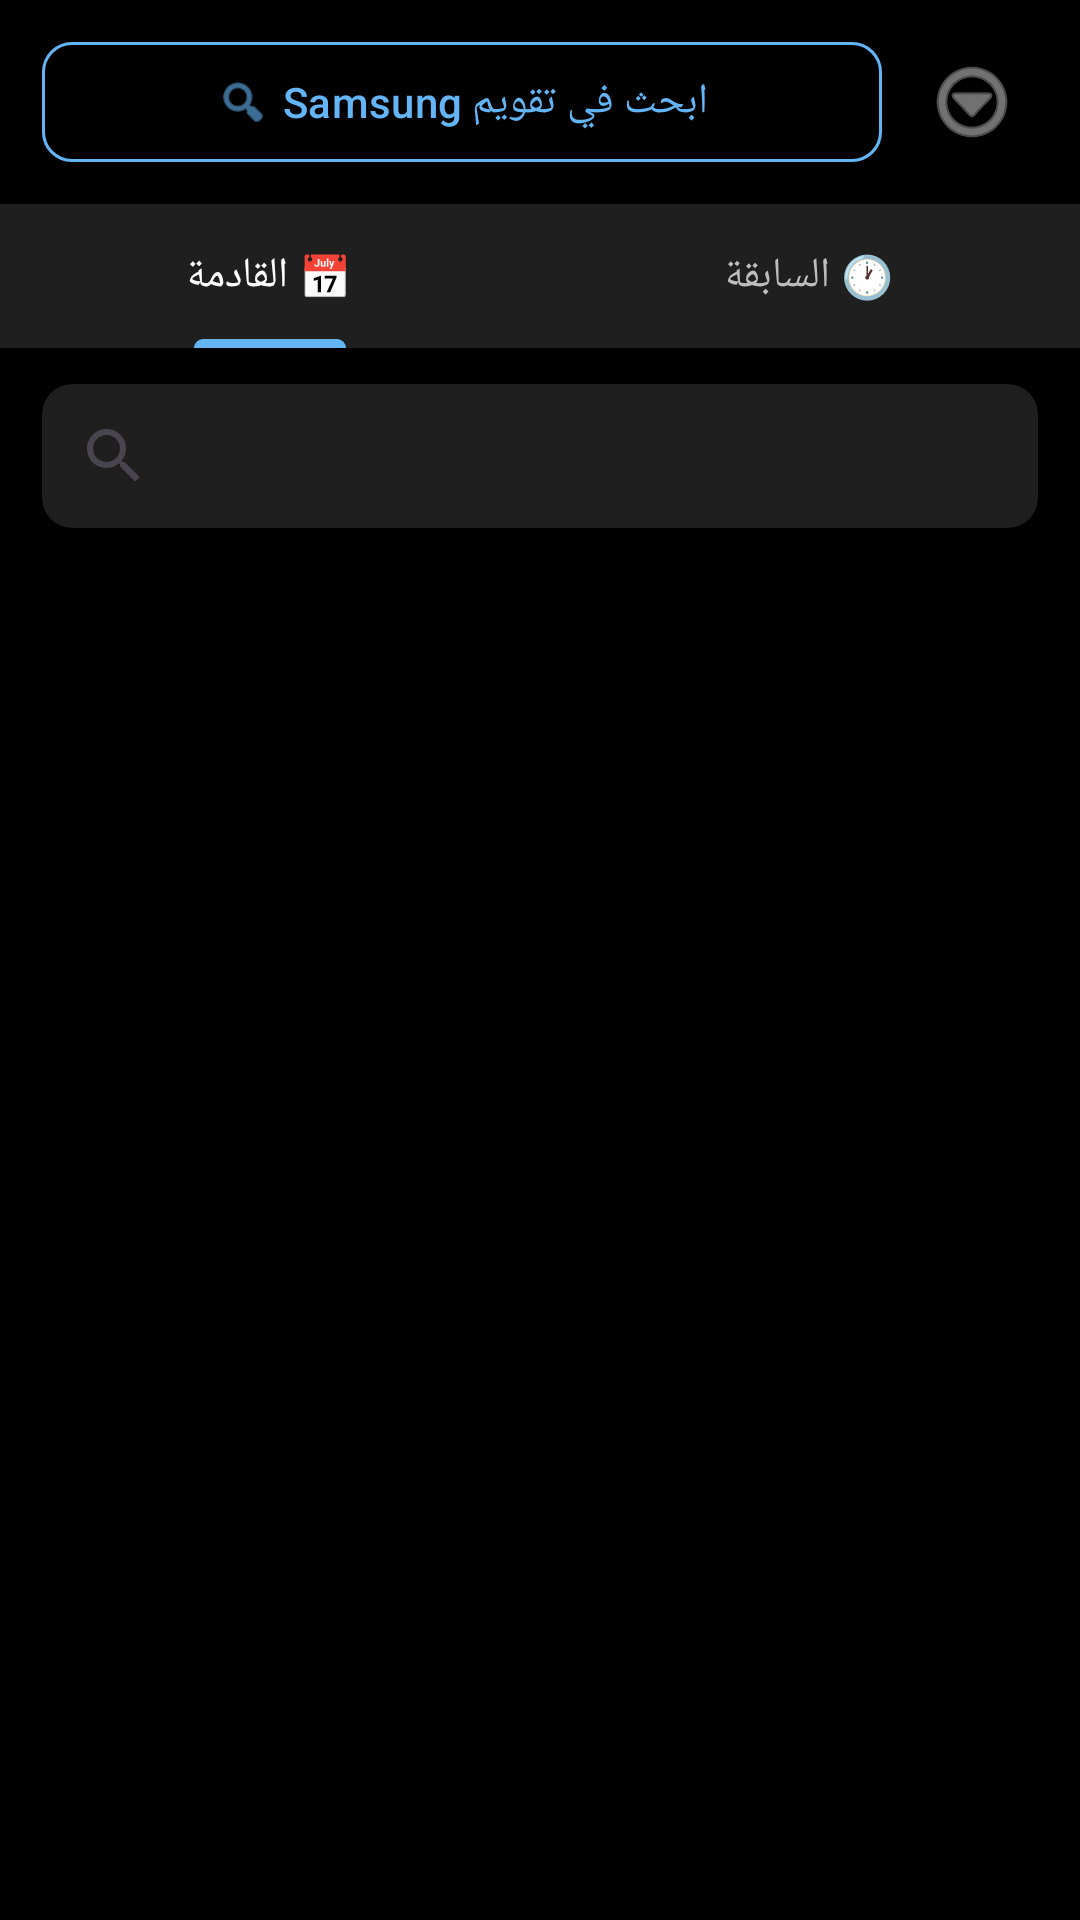

Named icons in this screenshot (1080px x 1920px) and their centers, point (x, y):
القائمة: point (972, 102)
